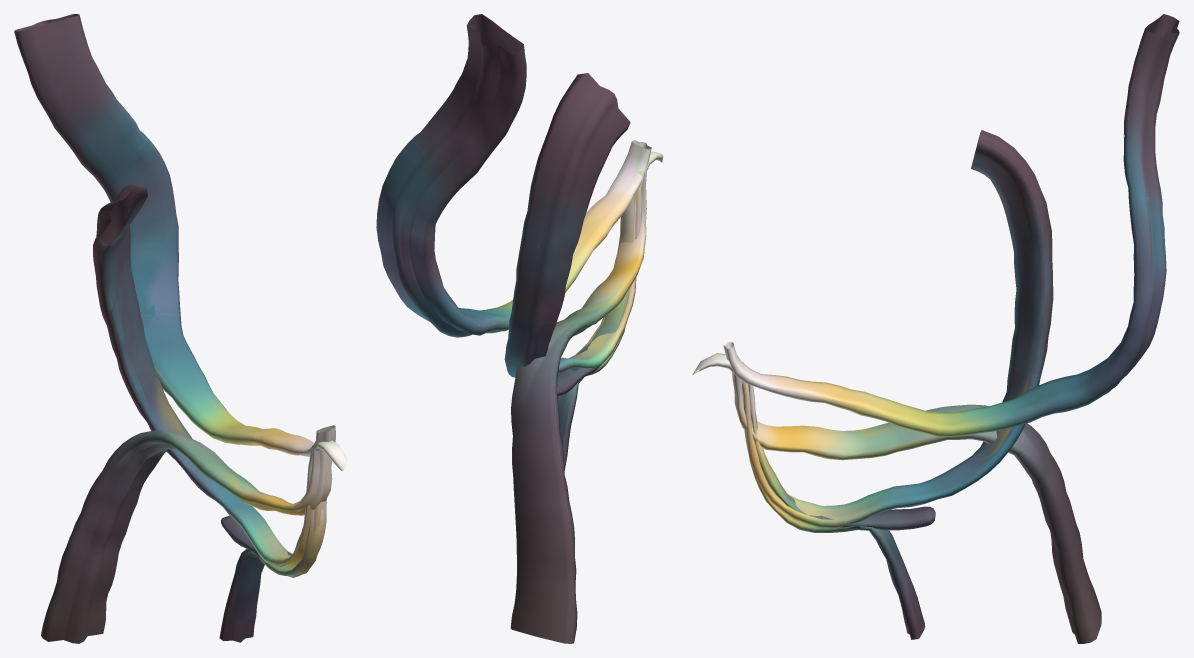
Rendered from Tongue.fbx.
3 renders of one model, left to right at view 1: azimuth 30°, elevation 25°; view 2: azimuth 150°, elevation 25°; view 3: azimuth 270°, elevation 25°, orthographic. The views are drawn at different scales.
Parts seen in each view (by area): view 1: Tongue_Back_2, Tongue_Back_1, Tongue_3, Tongue, Tongue_2; view 2: Tongue_Back_2, Tongue_Back_1, Tongue_3, Tongue_2, Tongue; view 3: Tongue_Back_2, Tongue_3, Tongue_Back_1, Tongue, Tongue_2.
Part boxes in pixels (<box>): Tongue_Back_2: <box>14,14,335,456</box>; Tongue_Back_1: <box>41,430,332,643</box>; Tongue_3: <box>93,185,347,568</box>; Tongue: <box>219,508,323,642</box>; Tongue_2: <box>221,515,303,566</box>; Tongue_Back_2: <box>376,14,651,337</box>; Tongue_Back_1: <box>510,172,646,643</box>; Tongue_3: <box>504,73,663,377</box>; Tongue_2: <box>557,191,636,396</box>; Tongue: <box>557,329,624,473</box>; Tongue_Back_2: <box>723,14,1179,436</box>; Tongue_3: <box>692,130,1053,528</box>; Tongue_Back_1: <box>732,372,1101,643</box>; Tongue: <box>748,454,925,639</box>; Tongue_2: <box>748,384,935,530</box>.
Size of the model in its own units: 5031 by 18271 by 13016.
